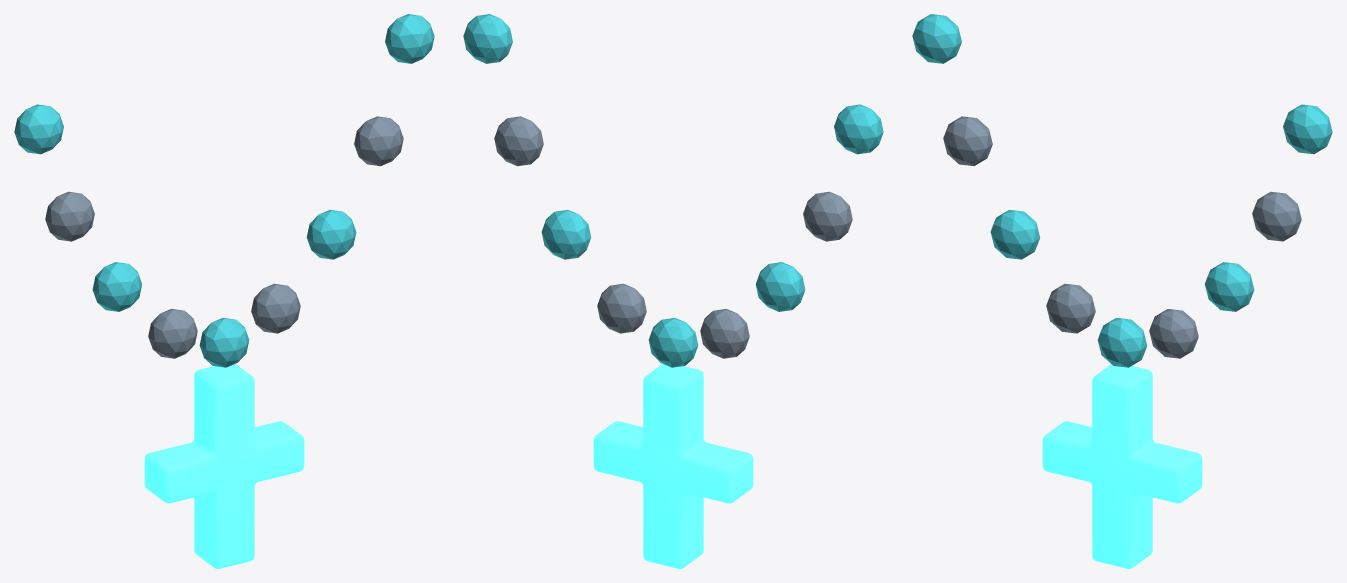
The model's file is necklace_v4.glb.
3 views of the same model, side by side, from view 1: azimuth 30°, elevation 25°; view 2: azimuth 150°, elevation 25°; view 3: azimuth 330°, elevation 25° (orthographic).
Visible parts, largest first — view 1: ROSARY_MARK_EMISSIVE, ROSARY_BEAD_PRIMARY.001, ROSARY_BEAD_ACCENT.004, ROSARY_BEAD_PRIMARY, ROSARY_BEAD_ACCENT.002, ROSARY_BEAD_PRIMARY.002, ROSARY_BEAD_PRIMARY.003, ROSARY_BEAD_ACCENT, ROSARY_BEAD_ACCENT.003, ROSARY_BEAD_ACCENT.001; view 2: ROSARY_MARK_EMISSIVE, ROSARY_BEAD_PRIMARY.001, ROSARY_BEAD_ACCENT.004, ROSARY_BEAD_PRIMARY, ROSARY_BEAD_ACCENT.002, ROSARY_BEAD_PRIMARY.002, ROSARY_BEAD_PRIMARY.003, ROSARY_BEAD_ACCENT, ROSARY_BEAD_ACCENT.003, ROSARY_BEAD_ACCENT.001; view 3: ROSARY_MARK_EMISSIVE, ROSARY_BEAD_ACCENT.003, ROSARY_BEAD_PRIMARY.003, ROSARY_BEAD_ACCENT.001, ROSARY_BEAD_ACCENT, ROSARY_BEAD_PRIMARY, ROSARY_BEAD_ACCENT.002, ROSARY_BEAD_ACCENT.004, ROSARY_BEAD_PRIMARY.002, ROSARY_BEAD_PRIMARY.001.
Part boxes in pixels (box(x1,y1,x2,y2)): ROSARY_MARK_EMISSIVE: box(144, 364, 304, 568); ROSARY_BEAD_PRIMARY.001: box(148, 309, 197, 358); ROSARY_BEAD_ACCENT.004: box(385, 14, 434, 63); ROSARY_BEAD_PRIMARY: box(45, 191, 94, 241); ROSARY_BEAD_ACCENT.002: box(199, 318, 249, 367); ROSARY_BEAD_PRIMARY.002: box(251, 283, 300, 333); ROSARY_BEAD_PRIMARY.003: box(354, 116, 403, 166); ROSARY_BEAD_ACCENT: box(14, 104, 63, 154); ROSARY_BEAD_ACCENT.003: box(306, 210, 356, 259); ROSARY_BEAD_ACCENT.001: box(92, 262, 142, 311); ROSARY_MARK_EMISSIVE: box(593, 364, 753, 568); ROSARY_BEAD_PRIMARY.001: box(700, 309, 749, 358); ROSARY_BEAD_ACCENT.004: box(463, 14, 512, 63); ROSARY_BEAD_PRIMARY: box(803, 191, 852, 241); ROSARY_BEAD_ACCENT.002: box(648, 318, 698, 367); ROSARY_BEAD_PRIMARY.002: box(597, 283, 646, 333); ROSARY_BEAD_PRIMARY.003: box(494, 116, 543, 166); ROSARY_BEAD_ACCENT: box(834, 104, 883, 154); ROSARY_BEAD_ACCENT.003: box(541, 210, 591, 259); ROSARY_BEAD_ACCENT.001: box(755, 262, 805, 311); ROSARY_MARK_EMISSIVE: box(1042, 364, 1202, 568); ROSARY_BEAD_ACCENT.003: box(1204, 262, 1254, 311); ROSARY_BEAD_PRIMARY.003: box(1252, 191, 1301, 241); ROSARY_BEAD_ACCENT.001: box(990, 210, 1040, 259); ROSARY_BEAD_ACCENT: box(912, 14, 961, 63); ROSARY_BEAD_PRIMARY: box(943, 116, 992, 165); ROSARY_BEAD_ACCENT.002: box(1097, 318, 1147, 367); ROSARY_BEAD_ACCENT.004: box(1283, 104, 1332, 154); ROSARY_BEAD_PRIMARY.002: box(1149, 309, 1198, 358); ROSARY_BEAD_PRIMARY.001: box(1046, 283, 1095, 333).
Bounding box in the file's own units: 2.01 × 2.31 × 0.2.
